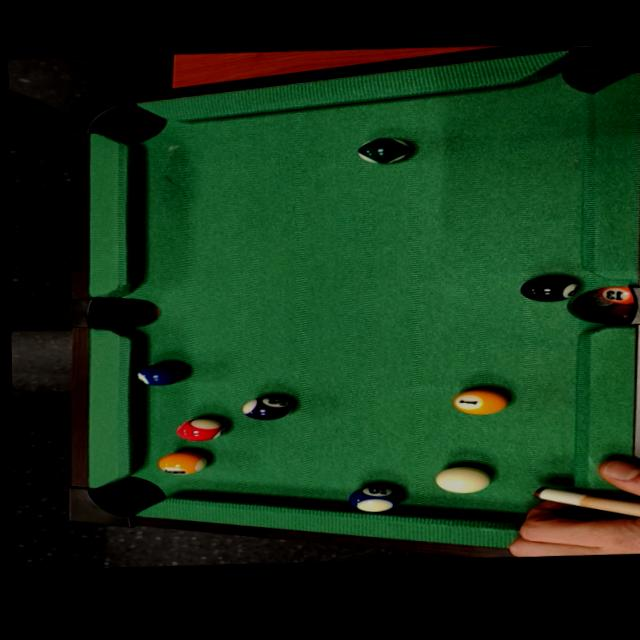cue ball: (428, 462, 497, 498)
other: (344, 479, 409, 517), (512, 271, 581, 305), (350, 134, 417, 168), (446, 386, 510, 418), (235, 392, 293, 426), (171, 416, 228, 443), (130, 361, 189, 387), (152, 451, 209, 476)
